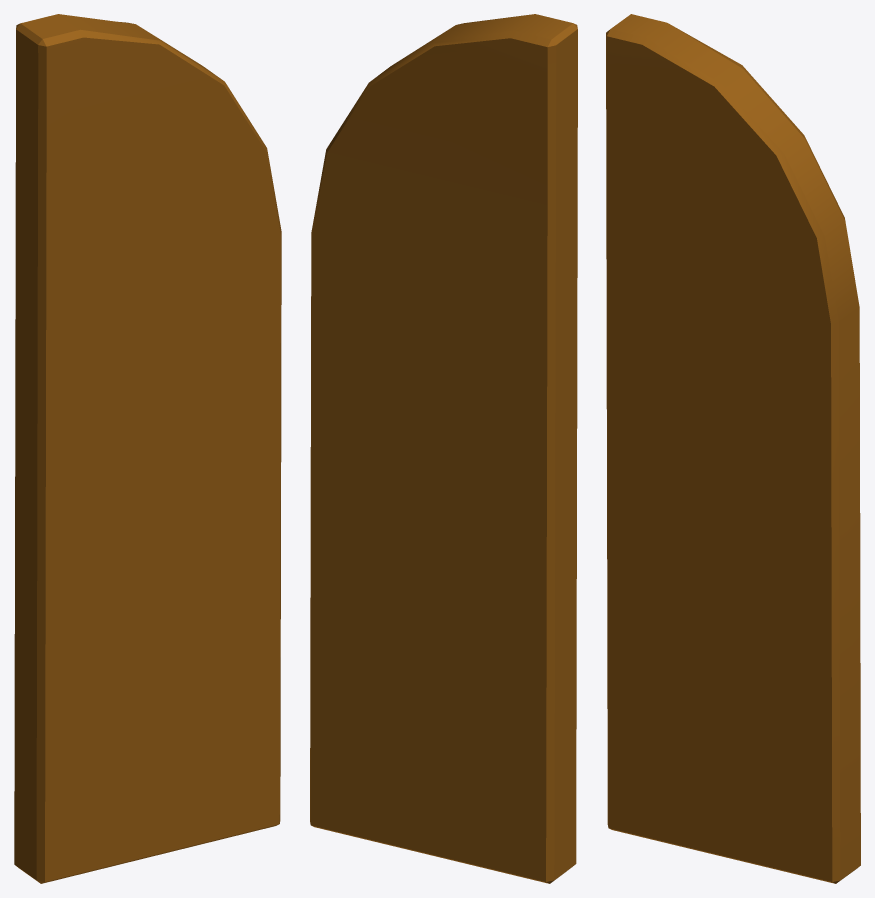
Rendered from Window Door.fbx.
3 views of the same model, side by side, from view 1: azimuth 30°, elevation 25°; view 2: azimuth 150°, elevation 25°; view 3: azimuth 330°, elevation 25° (orthographic). The views are drawn at different scales.
Parts seen in each view (by area): view 1: Object001; view 2: Object001; view 3: Object001.
Boxes of the visible parts, <box> form: Object001: <box>14,14,281,883</box>; Object001: <box>310,14,577,883</box>; Object001: <box>606,14,860,883</box>.
Size of the model in its own units: 20.84 by 68.85 by 4.75.
